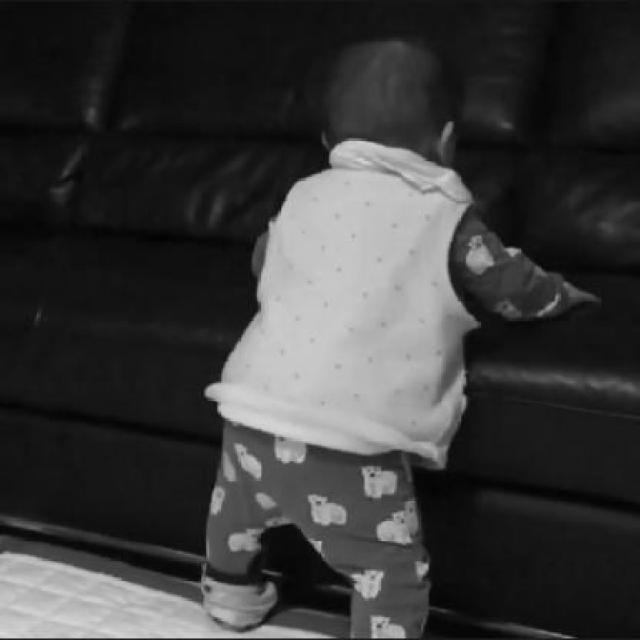child: (199, 38, 593, 640)
